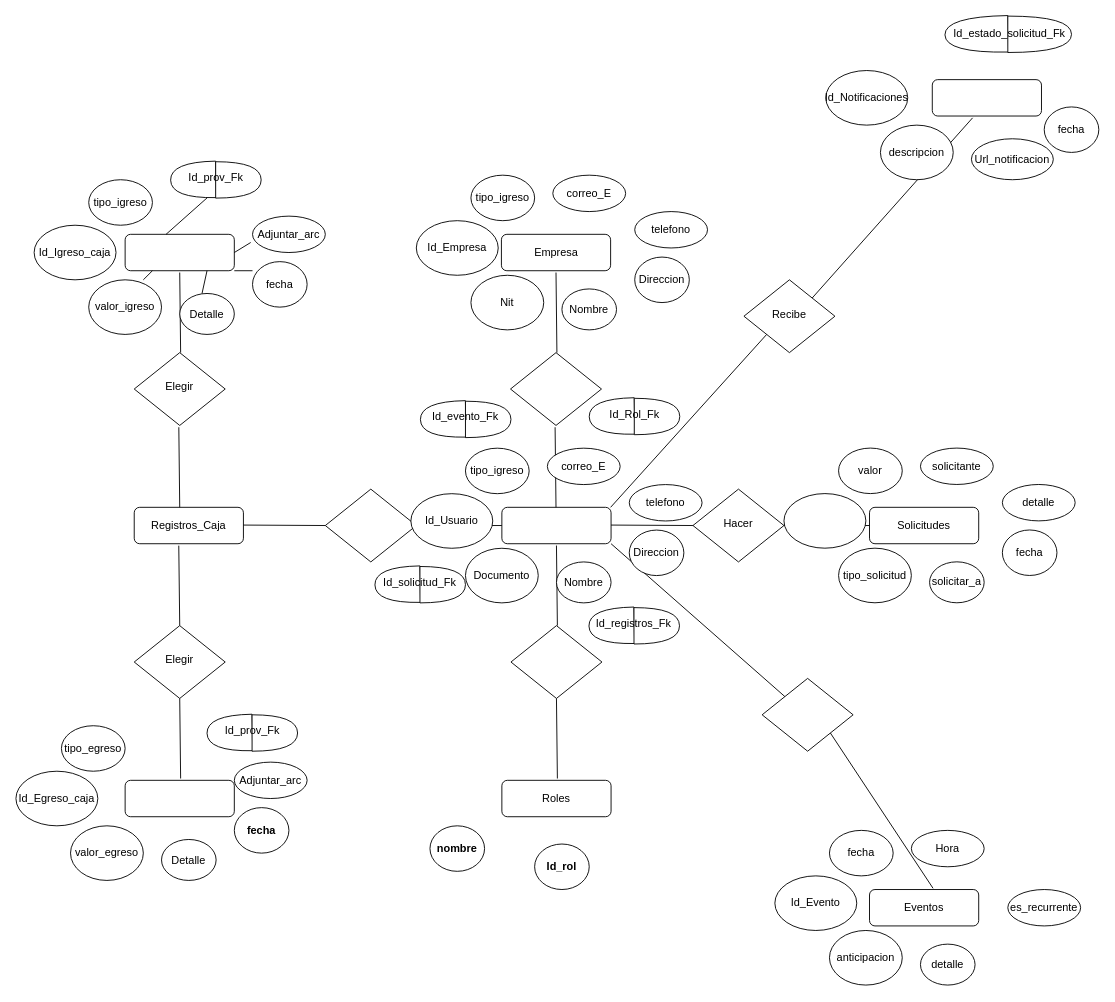
Image size: 1115x1002. Some labels were removed from this diagram. Each missing label, with the centre of its shape:
"Asignar" belongs at [556,661].
"Crear" belongs at [370,525].
"Egreso_caja" belongs at [179,798].
"Id_Solicitudes" belongs at [824,520].
"Ingreso_caja" belongs at [179,252].
"Notificaciones" belongs at [986,97].
"Pertenece" belongs at [556,388].
"Programar" belongs at [807,714].
"Usuarios" belongs at [556,525].
